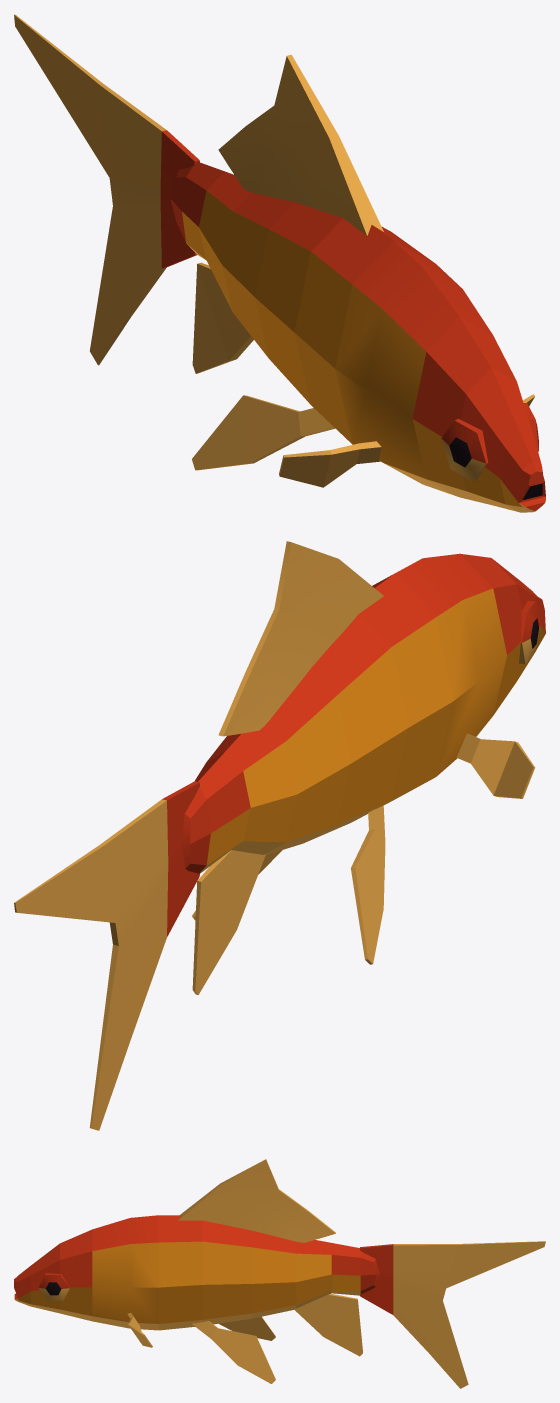
The model's file is Mesh_Goldfish.obj.
3 views of the same model, one above another, from view 1: azimuth 30°, elevation 25°; view 2: azimuth 150°, elevation 25°; view 3: azimuth 270°, elevation 25° (orthographic). The views are drawn at different scales.
Parts seen in each view (by area): view 1: Geo_Goldfish; view 2: Geo_Goldfish; view 3: Geo_Goldfish.
Part boxes in pixels (<box>): Geo_Goldfish: <box>14,14,545,512</box>; Geo_Goldfish: <box>14,541,545,1130</box>; Geo_Goldfish: <box>14,1159,545,1388</box>.
Size of the model in its own units: 26.55 by 45.42 by 95.57.
Materials: 1 (1 with a texture image).
